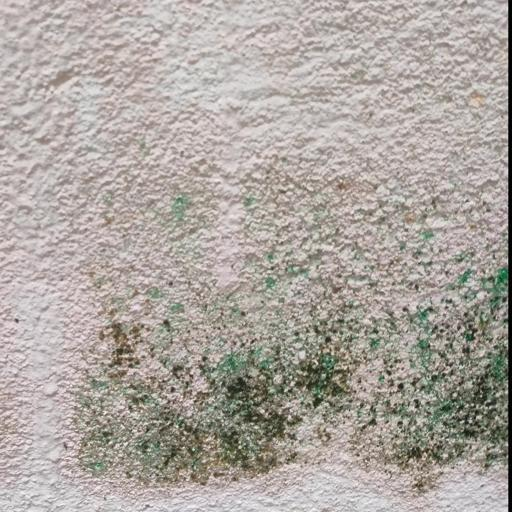algae: (65, 189, 512, 496)
